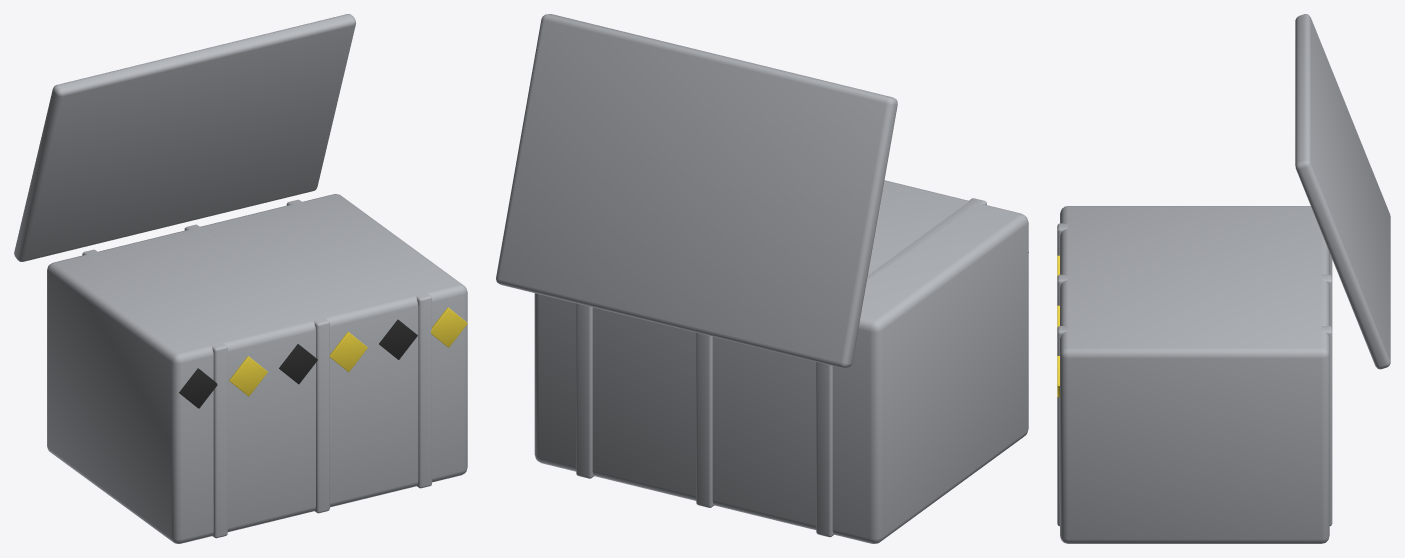
File: bin.glb
The picture shows the model from 3 angles, left to right: view 1: azimuth 30°, elevation 25°; view 2: azimuth 150°, elevation 25°; view 3: azimuth 270°, elevation 25°; orthographic projection. The views are drawn at different scales.
Parts seen in each view (by area): view 1: bin, lid, rib0, rib-0.45, rib0.45, stripe1, stripe2, stripe4, stripe0, stripe3, stripe5; view 2: lid, bin, rib-0.45, rib0.45, rib0; view 3: bin, lid, rib0.45, rib0.
Part boxes in pixels (x1,y1,x2,y2): bin: [47, 194, 467, 543]; lid: [14, 14, 355, 261]; rib0: [184, 224, 329, 513]; rib-0.45: [82, 249, 227, 538]; rib0.45: [286, 199, 431, 488]; stripe1: [229, 356, 267, 396]; stripe2: [279, 344, 317, 384]; stripe4: [379, 319, 417, 359]; stripe0: [179, 368, 217, 408]; stripe3: [329, 332, 367, 371]; stripe5: [431, 307, 467, 347]; lid: [496, 14, 897, 368]; bin: [534, 180, 1028, 543]; rib-0.45: [816, 198, 986, 537]; rib0.45: [576, 303, 593, 478]; rib0: [696, 332, 714, 507]; bin: [1060, 206, 1329, 543]; lid: [1295, 14, 1390, 369]; rib0.45: [1057, 326, 1332, 526]; rib0: [1057, 274, 1332, 327].
Size of the model in its own units: 1.32 by 1.58 by 1.24.
